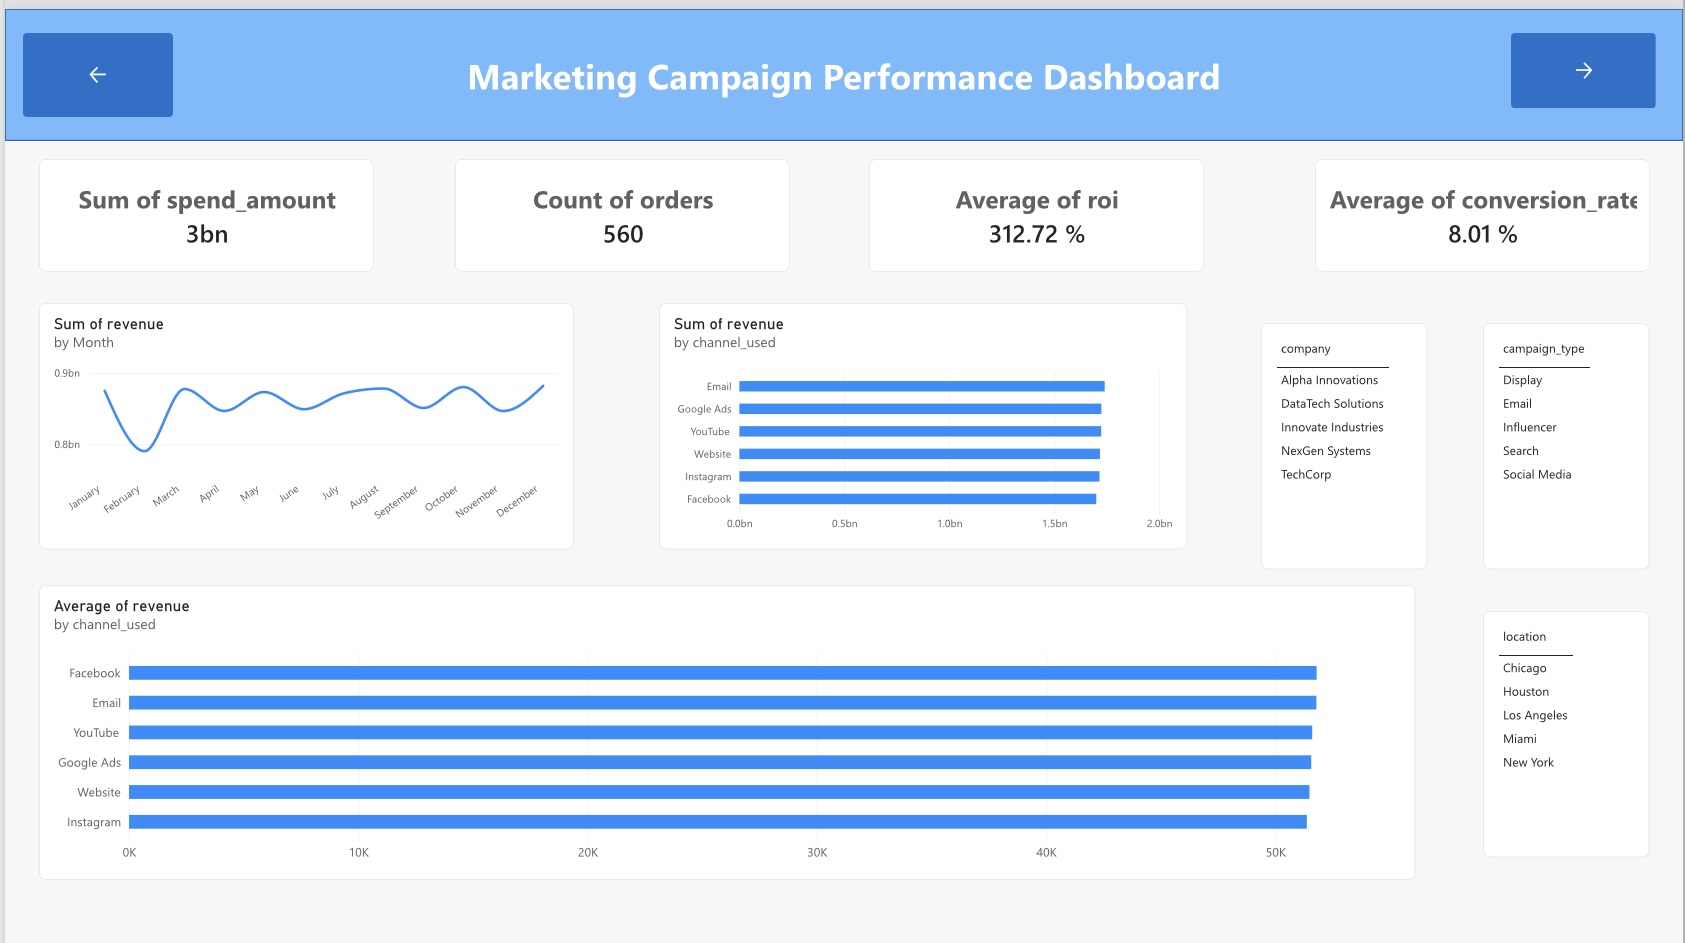

This screenshot's page, from the dashboard's own definition file:
{"tool":"powerbi","page":{"name":"Dashbord","canvas":[1920,1080],"ordinal":2},"visuals":[{"type":"cardVisual","fields":{"Data":["Sum(Marketing_Combined 1.spend_amount)"]},"box":[40,171.6,383.2,129.7],"z":0},{"type":"cardVisual","fields":{"Data":["Count(Marketing_Combined 1.orders)"]},"box":[514.8,171.6,383.2,129.7],"z":1000},{"type":"cardVisual","fields":{"Data":["Avg(Marketing_Combined 1.roi)"]},"box":[989.6,171.6,383.2,129.7],"z":2000},{"type":"cardVisual","fields":{"Data":["Avg(Marketing_Combined 1.conversion_rate)"]},"box":[1498.6,171.6,383.2,129.7],"z":3000},{"type":"lineChart","fields":{"Category":["Marketing_Combined 1.date.Variation.Date Hierarchy.Month"],"Y":["Sum(Marketing_Combined 1.revenue)"]},"box":[40,337.5,612,282.2],"z":4000},{"type":"clusteredBarChart","fields":{"Category":["Marketing_Combined 1.channel_used"],"Y":["Sum(Marketing_Combined 1.revenue)"]},"box":[747.4,337.5,604.4,282.2],"z":5000},{"type":"tableEx","fields":{"Values":["Marketing_Combined 1.campaign_type"]},"box":[1691.2,358.5,190.7,282.2],"z":6000},{"type":"tableEx","fields":{"Values":["Marketing_Combined 1.company"]},"box":[1437.6,358.5,190.7,282.2],"z":7000},{"type":"tableEx","fields":{"Values":["Marketing_Combined 1.location"]},"box":[1691.2,688.3,190.7,282.2],"z":8000},{"type":"clusteredBarChart","fields":{"Category":["Marketing_Combined 1.channel_used"],"Y":["Avg(Marketing_Combined 1.revenue)"]},"box":[40,659.7,1574.9,337.5],"z":9000},{"type":"shape","box":[0,0,1920,150.6],"z":10000},{"type":"actionButton","box":[1722.6,27.2,165.7,86.2],"z":10001},{"type":"actionButton","box":[20.6,27.5,171.6,96.1],"z":10002}]}

Visuals, with their boxes in screenshot pixels (x1, y1, x2, y2), scaled from the page's 1920x1080 canvas onto the 1685x943 screenshot:
cardVisual - Sum(Marketing_Combined 1.spend_amount): rect(35, 150, 371, 263)
cardVisual - Count(Marketing_Combined 1.orders): rect(452, 150, 788, 263)
cardVisual - Avg(Marketing_Combined 1.roi): rect(868, 150, 1205, 263)
cardVisual - Avg(Marketing_Combined 1.conversion_rate): rect(1315, 150, 1651, 263)
lineChart - Marketing_Combined 1.date.Variation.Date Hierarchy.Month x Sum(Marketing_Combined 1.revenue): rect(35, 295, 572, 541)
clusteredBarChart - Marketing_Combined 1.channel_used x Sum(Marketing_Combined 1.revenue): rect(656, 295, 1186, 541)
tableEx - Marketing_Combined 1.campaign_type: rect(1484, 313, 1652, 559)
tableEx - Marketing_Combined 1.company: rect(1262, 313, 1429, 559)
tableEx - Marketing_Combined 1.location: rect(1484, 601, 1652, 847)
clusteredBarChart - Marketing_Combined 1.channel_used x Avg(Marketing_Combined 1.revenue): rect(35, 576, 1417, 871)
shape: rect(0, 0, 1684, 131)
actionButton: rect(1512, 24, 1657, 99)
actionButton: rect(18, 24, 169, 108)
